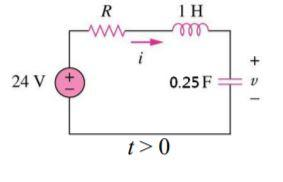inductor: (163, 17, 208, 44)
